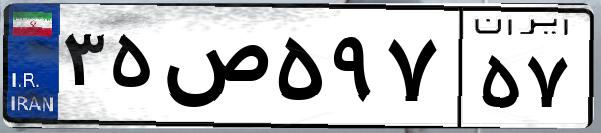3: (57, 26, 110, 100)
5: (270, 28, 330, 110), (475, 38, 525, 113), (110, 28, 158, 98)
7: (385, 28, 445, 110), (525, 38, 570, 115)
9: (330, 28, 385, 110)
ص: (158, 20, 270, 120)
